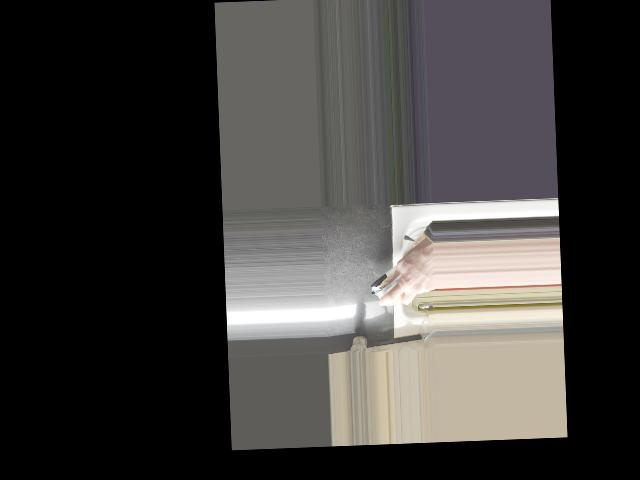cheese: (367, 255, 432, 304)
